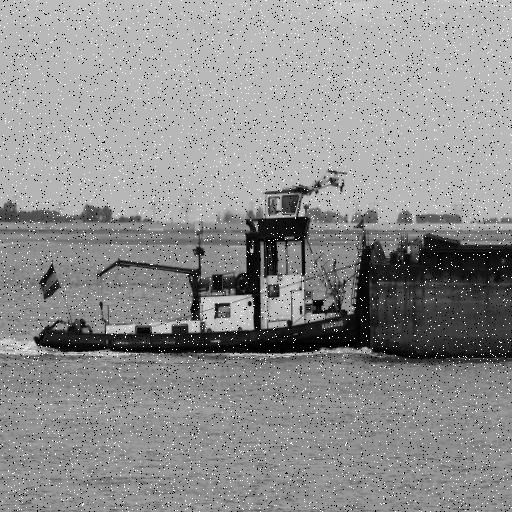tugboat: (30, 166, 377, 371)
